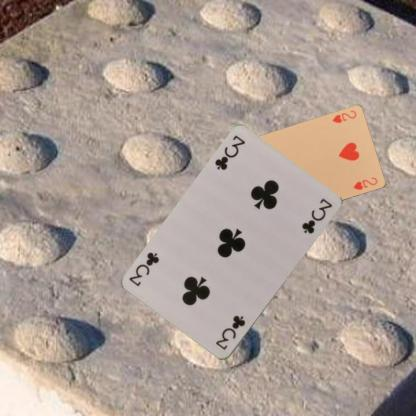2h: (329, 108, 357, 125)
3c: (212, 133, 247, 172), (212, 312, 246, 352)
